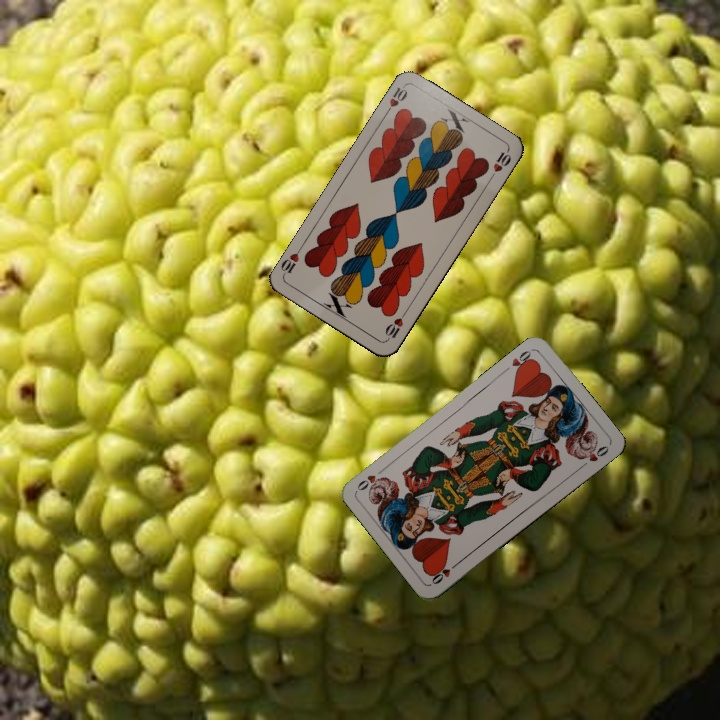H10: (381, 82, 410, 118), (381, 307, 409, 343)
HO: (427, 557, 462, 587), (507, 345, 536, 376)
